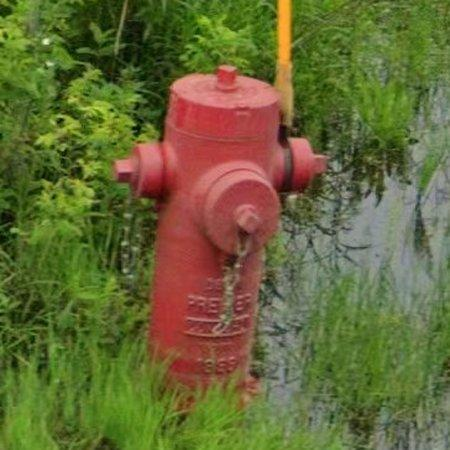a fire hydrant: (114, 66, 328, 388)
